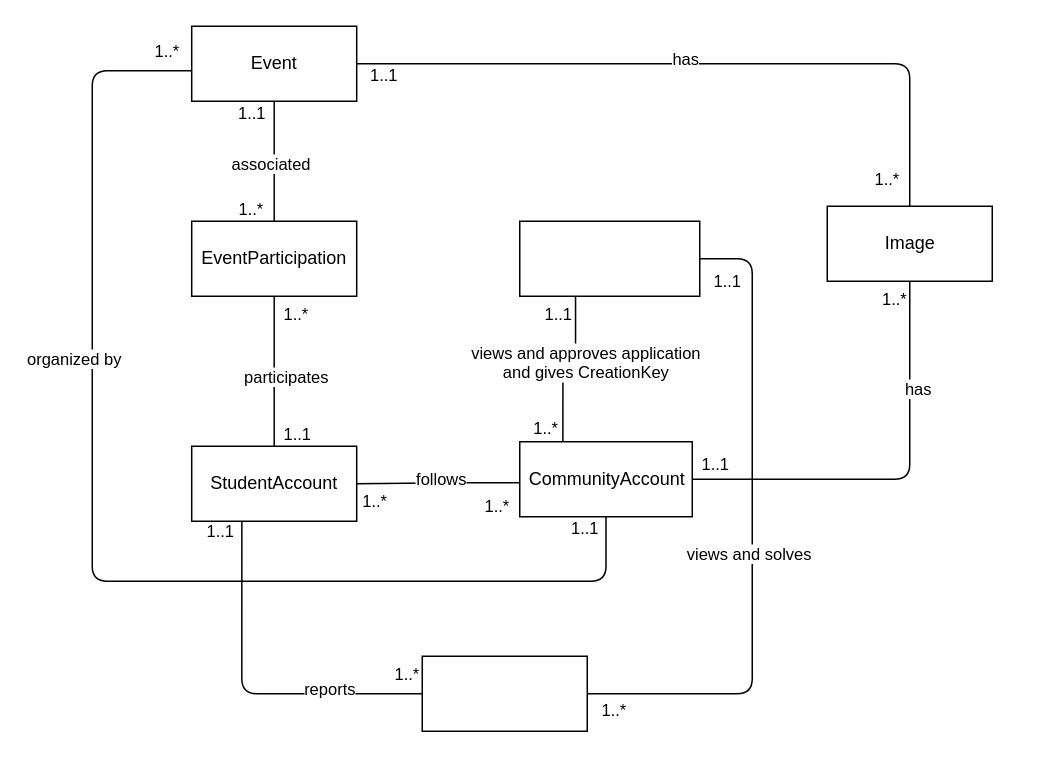
The diagram is 1047 pixels wide and 758 high, and some of its shapes have lost their labels. The centre of each missing label's shape, as x and y in pixels:
AdministratorAccount: point 609,258
Report: point 504,693
